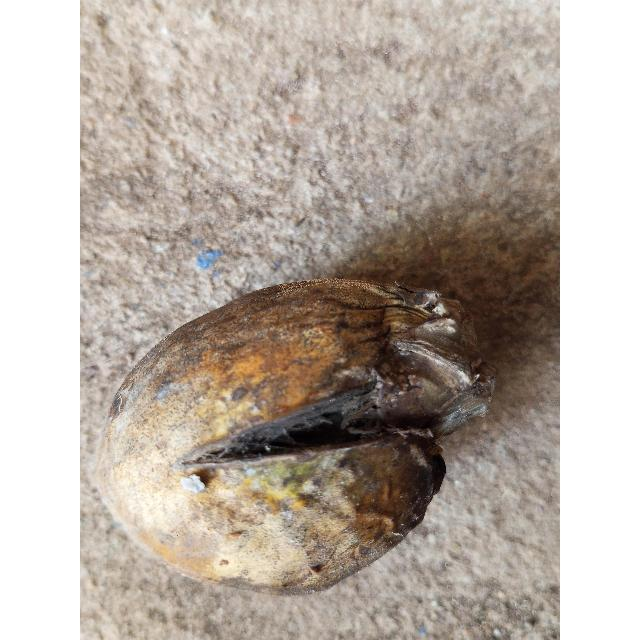damaged: (97, 279, 494, 595)
